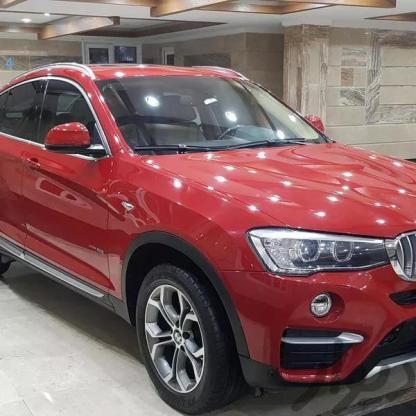Car: (0, 61, 416, 415)
